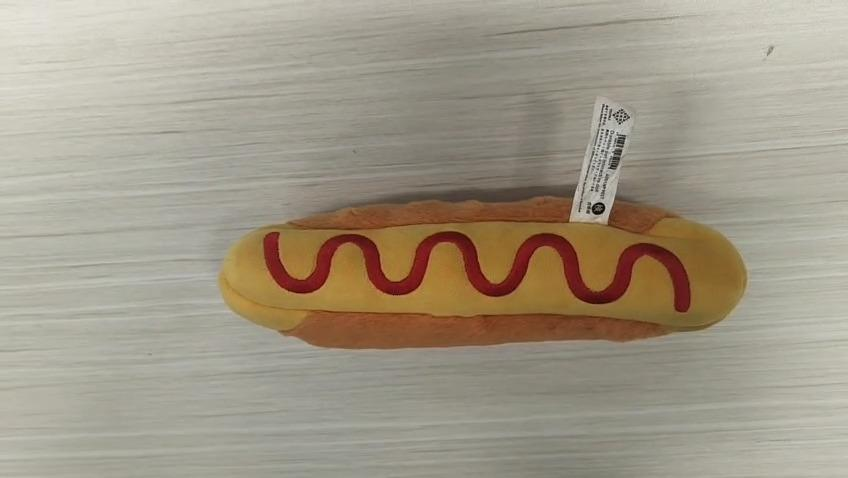hotdog: (217, 193, 748, 349)
